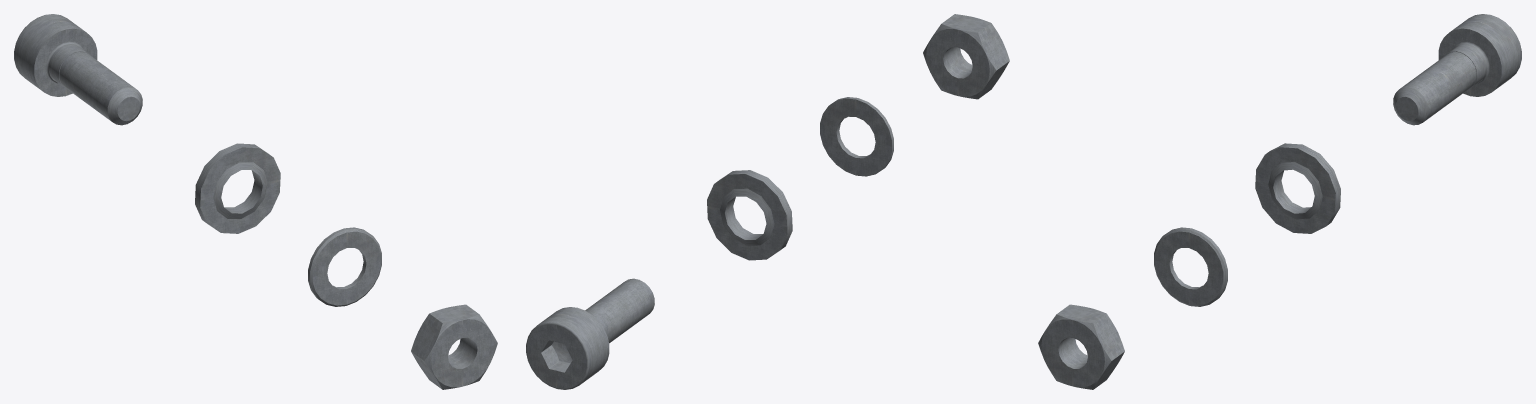
The model's file is platine_step_1_tools.obj.
3 renders of one model, left to right at view 1: azimuth 30°, elevation 25°; view 2: azimuth 150°, elevation 25°; view 3: azimuth 330°, elevation 25°, orthographic.
Visible parts, largest first — view 1: Vis_M4_215, ECROU_H_M414, RONDELLE_BS_D410, RONDELLE_Z47; view 2: Vis_M4_215, ECROU_H_M414, RONDELLE_BS_D410, RONDELLE_Z47; view 3: Vis_M4_215, ECROU_H_M414, RONDELLE_BS_D410, RONDELLE_Z47.
Part boxes in pixels (<box>): Vis_M4_215: <box>14,14,142,125</box>; ECROU_H_M414: <box>411,304,497,389</box>; RONDELLE_BS_D410: <box>195,143,280,233</box>; RONDELLE_Z47: <box>308,227,381,306</box>; Vis_M4_215: <box>526,278,654,389</box>; ECROU_H_M414: <box>923,14,1009,99</box>; RONDELLE_BS_D410: <box>707,170,792,260</box>; RONDELLE_Z47: <box>820,97,893,176</box>; Vis_M4_215: <box>1393,14,1521,125</box>; ECROU_H_M414: <box>1038,304,1124,389</box>; RONDELLE_BS_D410: <box>1255,143,1340,233</box>; RONDELLE_Z47: <box>1154,227,1227,306</box>.
Bounding box in the file's own units: 8.87 × 8.99 × 79.55.
Materials: 1 (1 with a texture image).
